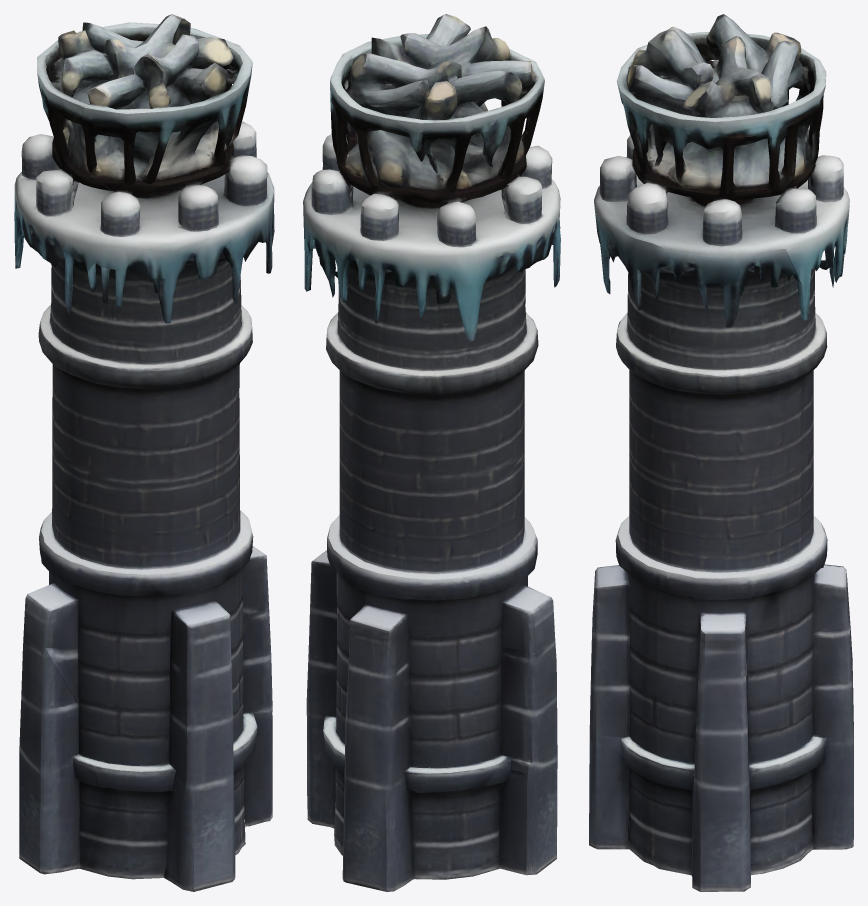
Rendered from prop-frozen-beacon.glb.
The picture shows the model from 3 angles, left to right: view 1: azimuth 30°, elevation 25°; view 2: azimuth 150°, elevation 25°; view 3: azimuth 270°, elevation 25°; orthographic projection.
Parts seen in each view (by area): view 1: prop-frozen-beacon; view 2: prop-frozen-beacon; view 3: prop-frozen-beacon.
Boxes of the visible parts, <box> form: prop-frozen-beacon: <box>14,14,274,891</box>; prop-frozen-beacon: <box>303,14,560,891</box>; prop-frozen-beacon: <box>589,14,853,891</box>.
Bounding box in the file's own units: 5.5 × 18.25 × 5.51.
Materials: 1 (1 with a texture image).
